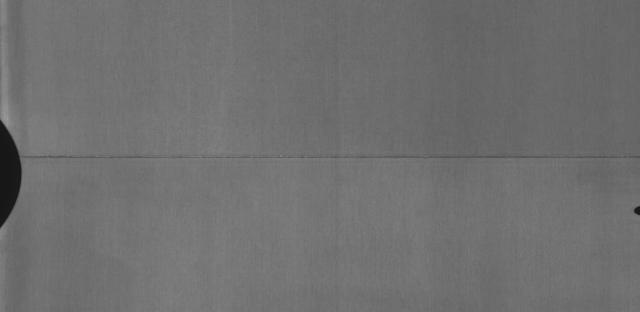crescent_gap: (0, 114, 32, 230)
punching_hole: (630, 203, 640, 217)
welding_line: (15, 148, 640, 168)
